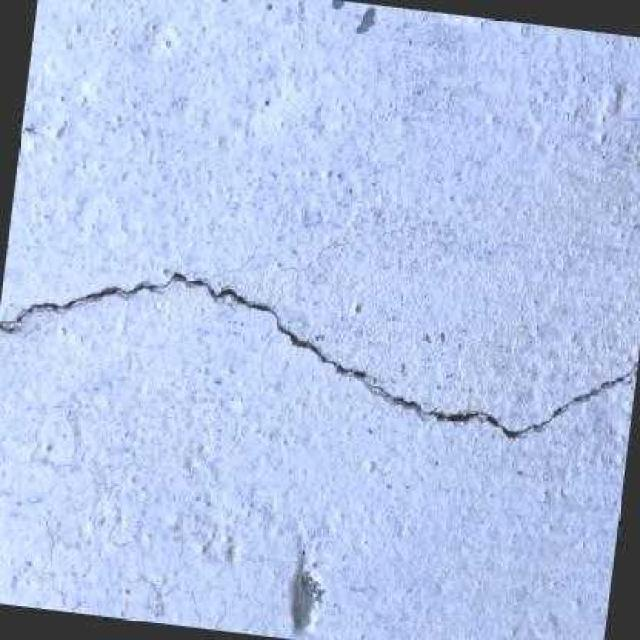D00: (0, 267, 631, 444)
